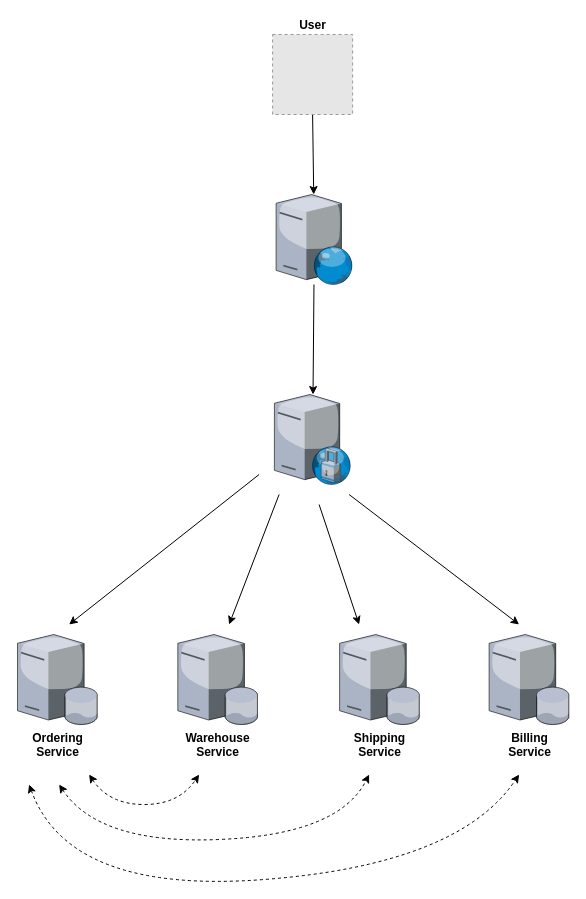
Some shapes in this 586 by 899 pixel diagram are drawn without their labels. Grey dashed boxes stand in for pictures. Each missing label, with the centre of its shape:
"Portal" goes at pixel 314 239.
"Portal API" goes at pixel 312 439.
